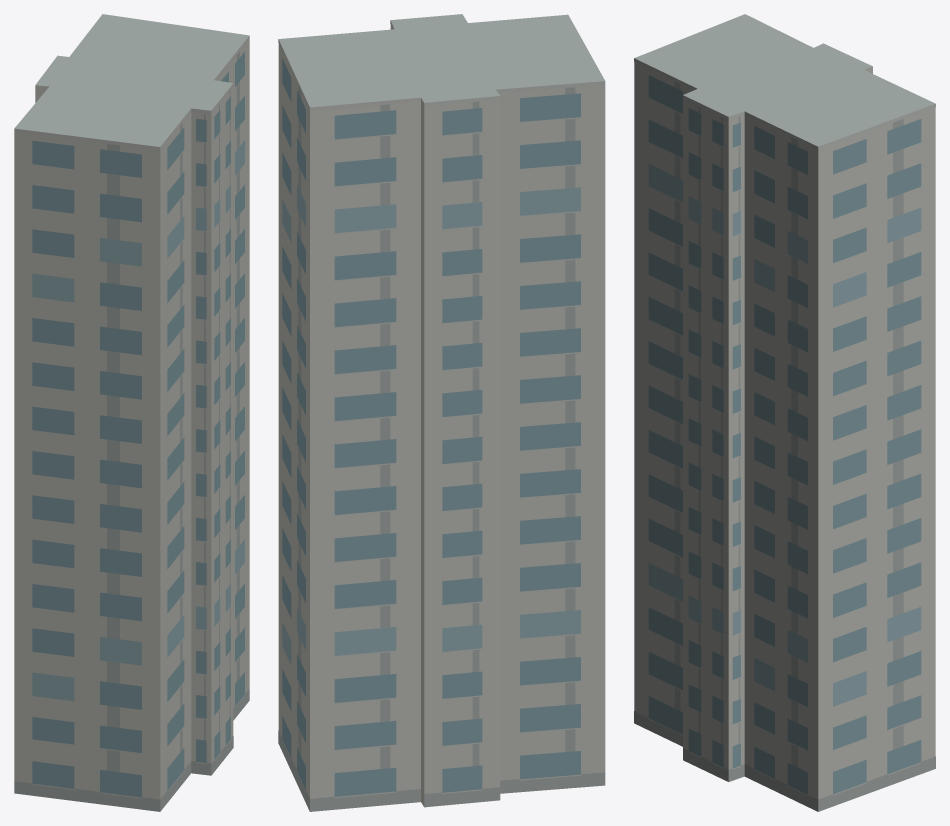
File: survey-upis-32815600.glb
3 views of the same model, side by side, from view 1: azimuth 30°, elevation 25°; view 2: azimuth 150°, elevation 25°; view 3: azimuth 270°, elevation 25° (orthographic). The views are drawn at different scales.
Parts seen in each view (by area): view 1: survey-upis-32815600.tmp; view 2: survey-upis-32815600.tmp; view 3: survey-upis-32815600.tmp.
Part boxes in pixels (left/top/right/bottom): survey-upis-32815600.tmp: left=14, top=14, right=249, bottom=811; survey-upis-32815600.tmp: left=278, top=14, right=605, bottom=811; survey-upis-32815600.tmp: left=634, top=14, right=935, bottom=811.
Size of the model in its own units: 19.59 by 45.75 by 18.81.
